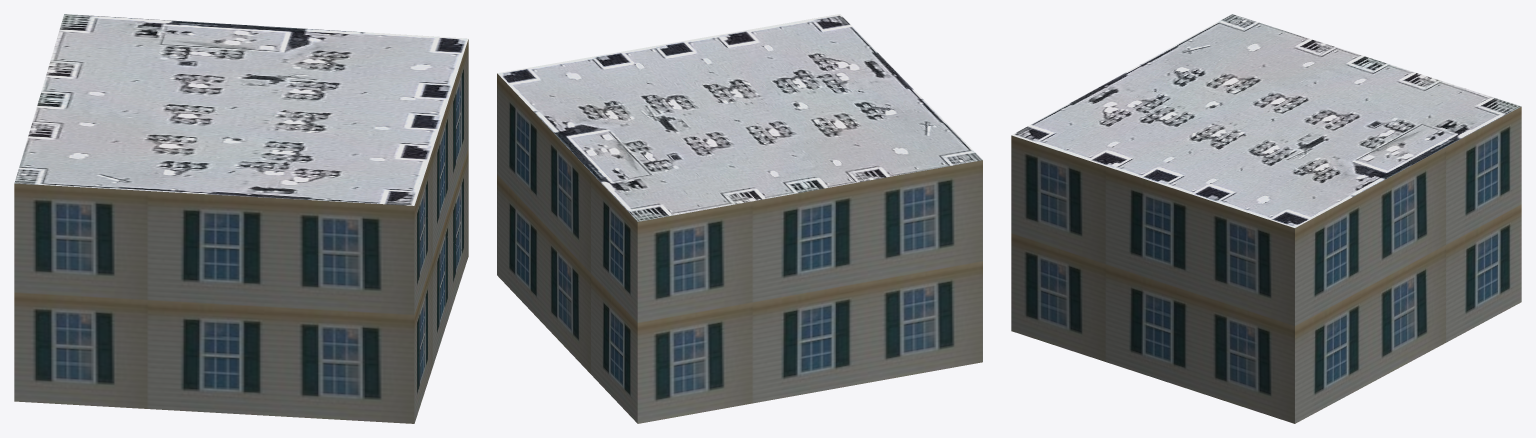
The model's file is ResTex__297.fbx.
The picture shows the model from 3 angles, left to right: view 1: azimuth 30°, elevation 25°; view 2: azimuth 150°, elevation 25°; view 3: azimuth 270°, elevation 25°; orthographic projection. The views are drawn at different scales.
Parts seen in each view (by area): view 1: CityEngineMaterial_7_m, CityEngineMaterial_15_m; view 2: CityEngineMaterial_7_m, CityEngineMaterial_15_m; view 3: CityEngineMaterial_7_m, CityEngineMaterial_15_m.
Boxes of the visible parts, x1,y1,x2,y2 form: CityEngineMaterial_7_m: (14,39,468,423); CityEngineMaterial_15_m: (14,14,468,205); CityEngineMaterial_7_m: (497,73,982,423); CityEngineMaterial_15_m: (497,14,982,221); CityEngineMaterial_7_m: (1011,106,1521,423); CityEngineMaterial_15_m: (1011,14,1521,227).
Bounding box in the file's own units: 14.08 × 6 × 14.18.
2 materials, 2 textured.
